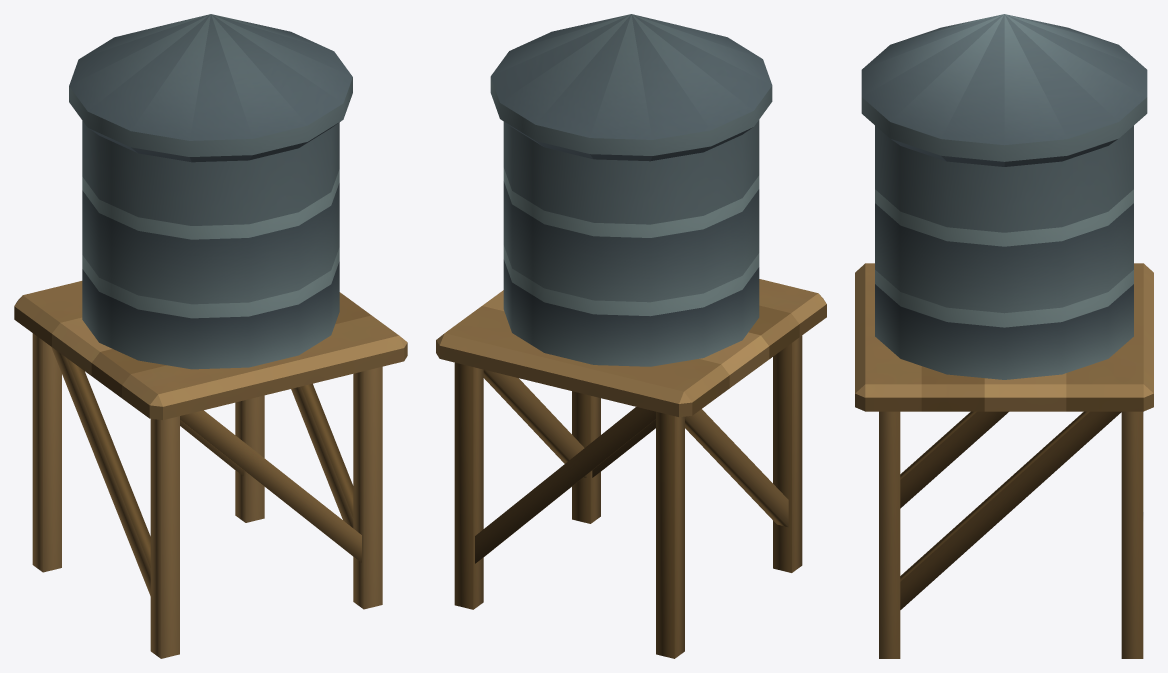
File: water_tower.fbx
3 views of the same model, side by side, from view 1: azimuth 30°, elevation 25°; view 2: azimuth 150°, elevation 25°; view 3: azimuth 270°, elevation 25° (orthographic). The views are drawn at different scales.
Parts seen in each view (by area): view 1: Water_Tower; view 2: Water_Tower; view 3: Water_Tower.
Part boxes in pixels (left/top/right/bottom): Water_Tower: left=14, top=14, right=407, bottom=658; Water_Tower: left=436, top=14, right=826, bottom=658; Water_Tower: left=855, top=14, right=1153, bottom=658.
Size of the model in its own units: 231 by 490 by 225.
